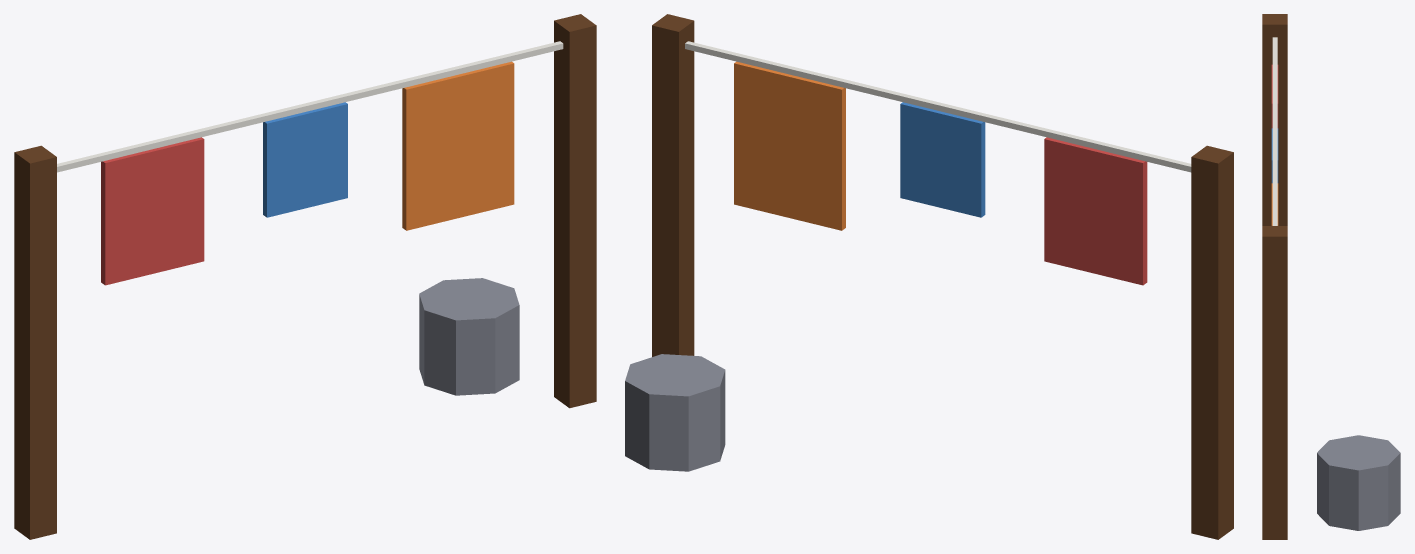
File: mdl_z1_tendedero.fbx
The picture shows the model from 3 angles, left to right: view 1: azimuth 30°, elevation 25°; view 2: azimuth 150°, elevation 25°; view 3: azimuth 270°, elevation 25°; orthographic projection. The views are drawn at different scales.
Parts seen in each view (by area): view 1: mdl_z1_tendedero; view 2: mdl_z1_tendedero; view 3: mdl_z1_tendedero.
Part boxes in pixels (bbox=[...]): mdl_z1_tendedero: bbox=[14, 14, 596, 539]; mdl_z1_tendedero: bbox=[625, 14, 1233, 539]; mdl_z1_tendedero: bbox=[1262, 14, 1400, 539].
Bounding box in the file's own units: 630 × 400 × 165.
